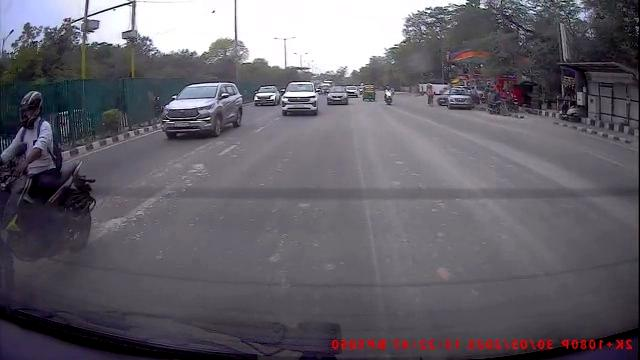motorcycle_with_helmet: (0, 89, 99, 302)
